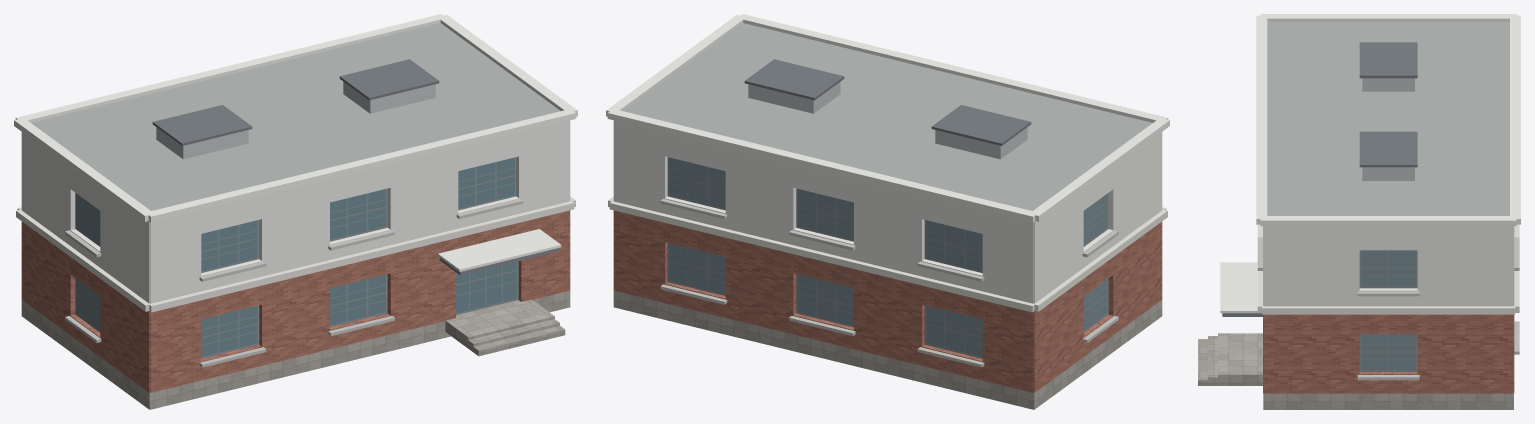
3 views of the same model, side by side, from view 1: azimuth 30°, elevation 25°; view 2: azimuth 150°, elevation 25°; view 3: azimuth 270°, elevation 25° (orthographic). The views are drawn at different scales.
Visible parts, largest first — view 1: annex-d2__roof, annex-d2__panel, annex-d2__redbrick, annex-d2__cap, annex-d2__glass, annex-d2__stone, annex-d2__band, annex-d2__darkframe, annex-d2__frame, annex-d2__sill, annex-d2__steel, annex-d2__stair-front (+2 smaller); view 2: annex-d2__roof, annex-d2__panel, annex-d2__redbrick, annex-d2__sideglass, annex-d2__cap, annex-d2__stone, annex-d2__band, annex-d2__frame, annex-d2__darkframe, annex-d2__sill, annex-d2__steel; view 3: annex-d2__roof, annex-d2__panel, annex-d2__redbrick, annex-d2__cap, annex-d2__darkframe, annex-d2__stone, annex-d2__sideglass, annex-d2__band, annex-d2__threshold-front, annex-d2__stair-front, annex-d2__steel, annex-d2__frame (+1 smaller).
Boxes of the visible parts, <box> form: annex-d2__roof: <box>31,23,560,210</box>; annex-d2__panel: <box>21,120,570,303</box>; annex-d2__redbrick: <box>21,210,570,392</box>; annex-d2__cap: <box>14,14,577,271</box>; annex-d2__glass: <box>201,157,516,356</box>; annex-d2__stone: <box>21,291,570,409</box>; annex-d2__band: <box>16,196,575,312</box>; annex-d2__darkframe: <box>152,59,439,145</box>; annex-d2__frame: <box>75,157,518,358</box>; annex-d2__sill: <box>65,199,523,367</box>; annex-d2__steel: <box>156,82,435,159</box>; annex-d2__stair-front: <box>463,312,565,356</box>; annex-d2__roof: <box>623,23,1152,210</box>; annex-d2__panel: <box>613,120,1162,303</box>; annex-d2__redbrick: <box>613,210,1162,392</box>; annex-d2__sideglass: <box>669,157,1107,356</box>; annex-d2__cap: <box>606,14,1169,222</box>; annex-d2__stone: <box>613,291,1162,409</box>; annex-d2__band: <box>608,196,1167,312</box>; annex-d2__frame: <box>667,157,1108,358</box>; annex-d2__darkframe: <box>744,59,1031,145</box>; annex-d2__sill: <box>660,199,1118,367</box>; annex-d2__steel: <box>748,82,1027,159</box>; annex-d2__roof: <box>1267,22,1509,215</box>; annex-d2__panel: <box>1263,226,1514,306</box>; annex-d2__redbrick: <box>1263,314,1514,393</box>; annex-d2__cap: <box>1220,14,1520,313</box>; annex-d2__darkframe: <box>1359,42,1417,167</box>; annex-d2__stone: <box>1263,393,1513,409</box>; annex-d2__sideglass: <box>1361,250,1415,370</box>; annex-d2__band: <box>1257,224,1519,314</box>; annex-d2__threshold-front: <box>1228,333,1262,385</box>; annex-d2__stair-front: <box>1198,333,1227,385</box>; annex-d2__steel: <box>1362,78,1414,180</box>; annex-d2__frame: <box>1359,250,1417,371</box>.
Bounding box in the file's own units: 18.52 × 8.6 × 12.23.
14 materials, 2 textured.
